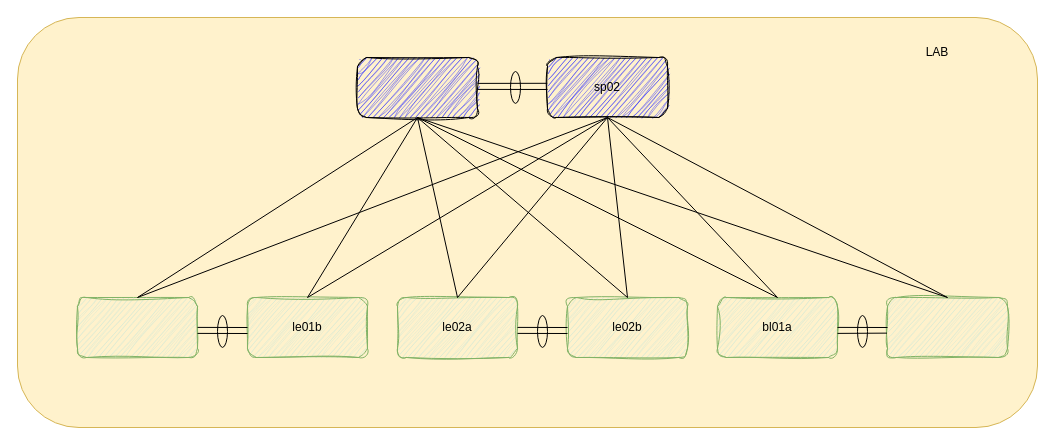
Image size: 1055x445. Some labels were removed from this diagram. The shapes that lost their labels are listed below. From the top down, each one's box as (x1, y1, x2, y2) in pixels, then its label:
(356, 56, 478, 118): sp01
(76, 296, 198, 358): le01a
(886, 296, 1008, 358): bl01b
